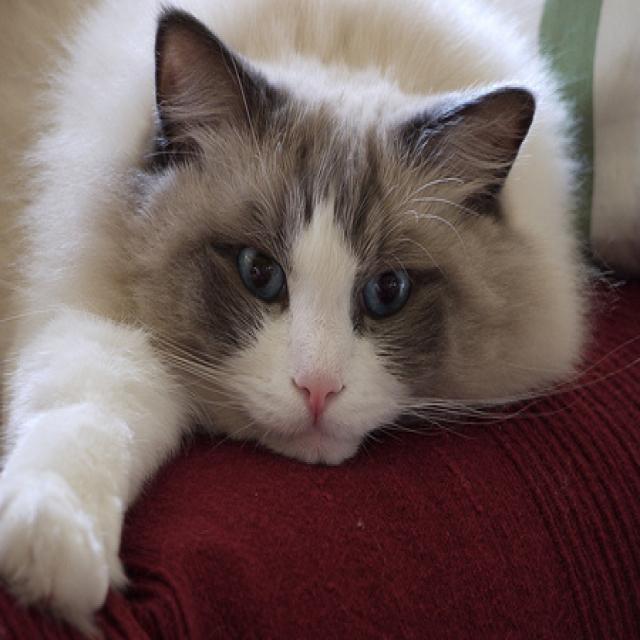Ragdoll: (0, 0, 599, 625)
